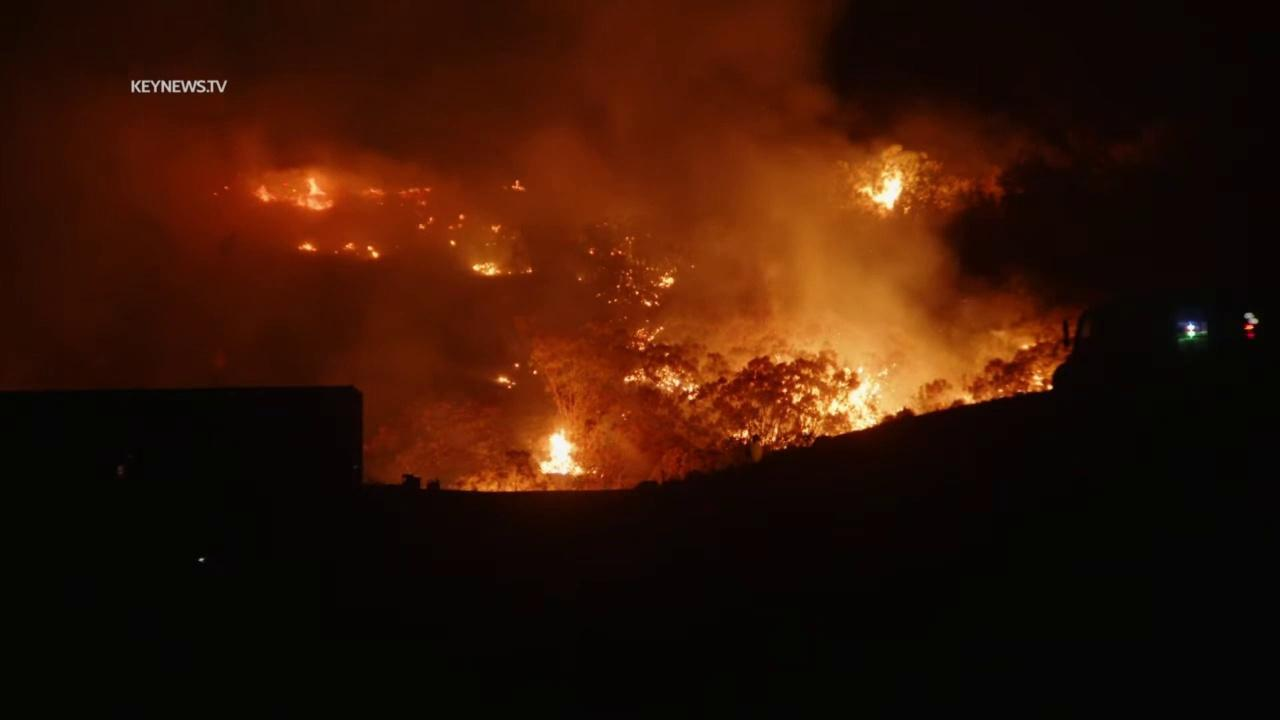fire: (781, 363, 890, 440), (538, 427, 599, 478), (254, 175, 335, 212), (623, 364, 702, 401), (855, 171, 905, 211), (634, 324, 666, 350), (470, 260, 503, 277), (1032, 368, 1054, 392), (657, 269, 678, 288), (294, 239, 318, 255), (731, 428, 752, 445), (494, 374, 515, 388), (509, 178, 526, 192), (365, 246, 382, 259), (398, 186, 418, 197), (641, 297, 655, 310), (490, 221, 502, 235), (367, 188, 385, 197), (344, 240, 357, 252), (447, 238, 458, 248), (417, 223, 426, 232), (1020, 342, 1030, 350), (532, 368, 540, 376), (458, 212, 465, 221), (427, 216, 434, 225), (422, 186, 432, 192), (212, 192, 220, 198), (223, 185, 231, 191), (527, 267, 533, 274), (514, 362, 520, 368), (589, 248, 594, 255), (578, 277, 584, 281)
smoke: (0, 0, 1099, 492)
